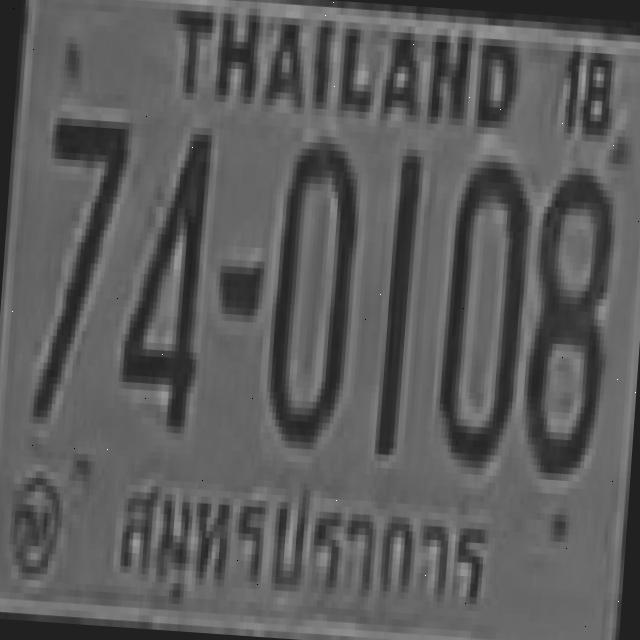0: (262, 133, 360, 444), (432, 152, 529, 462)
1: (374, 151, 416, 451)
4: (115, 120, 209, 430)
7: (29, 110, 126, 421)
8: (518, 161, 616, 472)
SamutPrakan: (107, 460, 496, 620)
